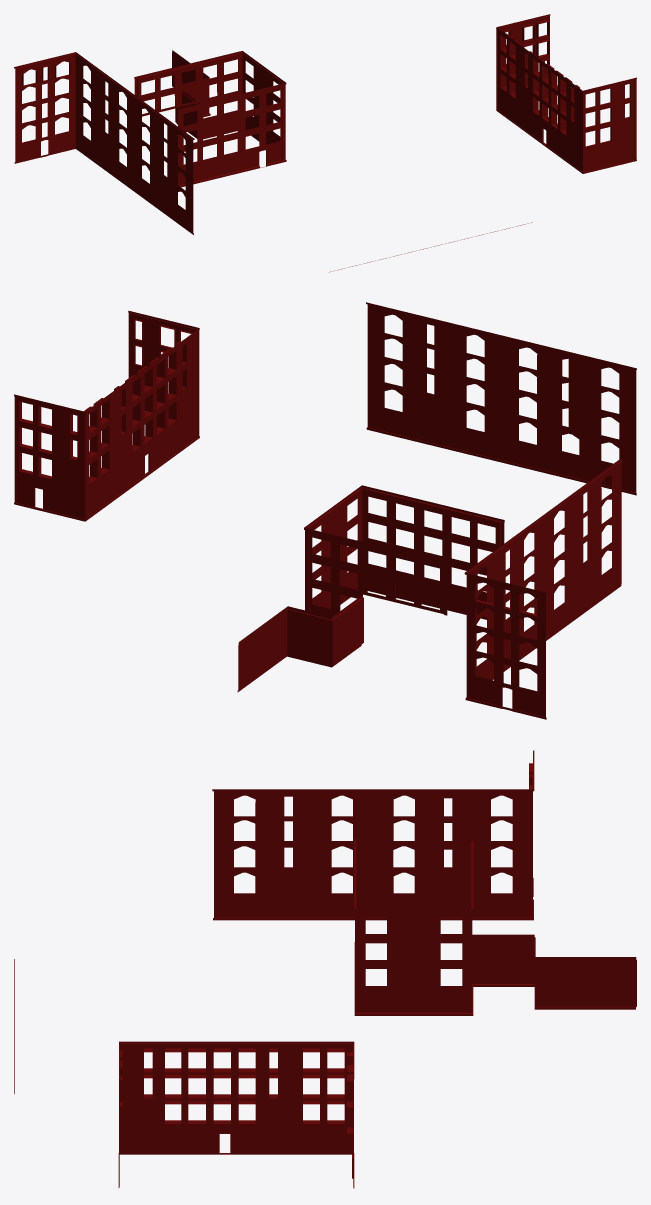
Rendered from DarkRedBuildings.fbx.
The picture shows the model from 3 angles, top to bottom: view 1: azimuth 30°, elevation 25°; view 2: azimuth 150°, elevation 25°; view 3: azimuth 270°, elevation 25°; orthographic projection. The views are drawn at different scales.
Visible parts, largest first — view 1: ApartmentBuilding_11_Base_low, Apartment_Buidling_03_Base_low, ApartmentBuilding_02_part_01; view 2: ApartmentBuilding_12_Base_low, ApartmentBuilding_02_part_01, Apartment_Buidling_03_Base_low, ApartmentBuilding_11_Base_low; view 3: ApartmentBuilding_11_Base_low, Apartment_Buidling_03_Base_low, ApartmentBuilding_02_part_01.
Boxes of the visible parts, left/top/right/bottom form: ApartmentBuilding_11_Base_low: left=14, top=52, right=194, bottom=234; Apartment_Buidling_03_Base_low: left=496, top=14, right=636, bottom=173; ApartmentBuilding_02_part_01: left=134, top=50, right=286, bottom=187; ApartmentBuilding_12_Base_low: left=366, top=302, right=636, bottom=495; ApartmentBuilding_02_part_01: left=237, top=485, right=504, bottom=692; Apartment_Buidling_03_Base_low: left=14, top=310, right=199, bottom=521; ApartmentBuilding_11_Base_low: left=464, top=458, right=621, bottom=719; ApartmentBuilding_11_Base_low: left=212, top=750, right=534, bottom=920; Apartment_Buidling_03_Base_low: left=118, top=1041, right=354, bottom=1188; ApartmentBuilding_02_part_01: left=354, top=839, right=636, bottom=1015.
Size of the model in its own units: 76.9 by 15.11 by 65.04.
